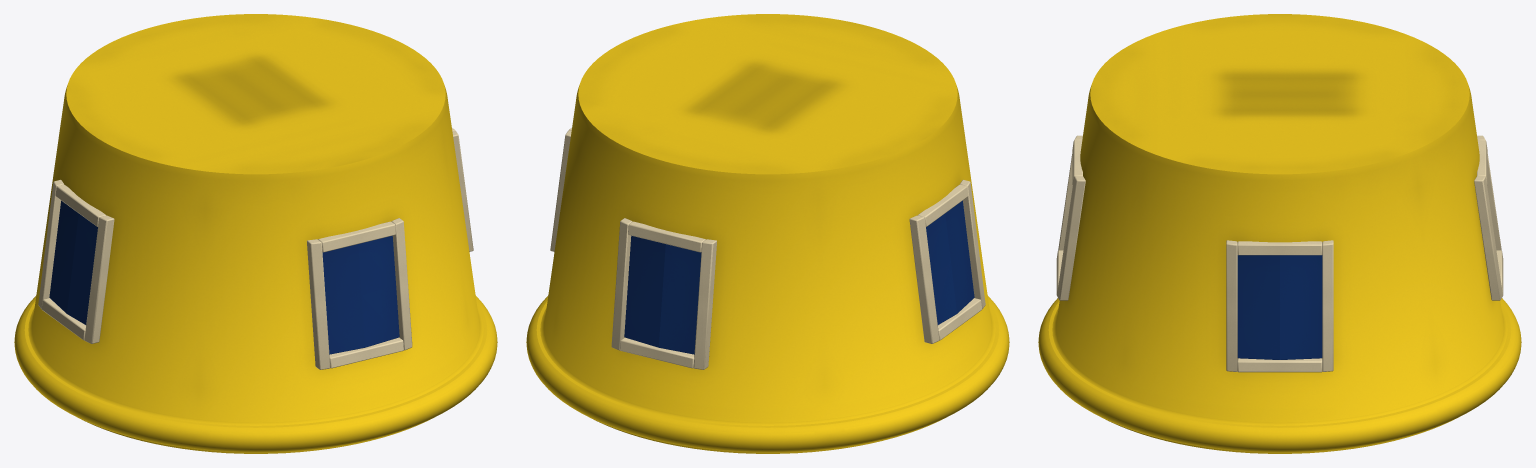
Rendered from 3-inverted-cup-3.fbx.
3 renders of one model, left to right at view 1: azimuth 30°, elevation 25°; view 2: azimuth 150°, elevation 25°; view 3: azimuth 270°, elevation 25°, orthographic.
Parts seen in each view (by area): view 1: inverted-cup-3; view 2: inverted-cup-3; view 3: inverted-cup-3.
Part boxes in pixels (bbox=[...]): inverted-cup-3: bbox=[14, 14, 497, 453]; inverted-cup-3: bbox=[526, 14, 1009, 453]; inverted-cup-3: bbox=[1038, 14, 1521, 453].
Size of the model in its own units: 7640 by 4600 by 7640.
Materials: 1 (1 with a texture image).
